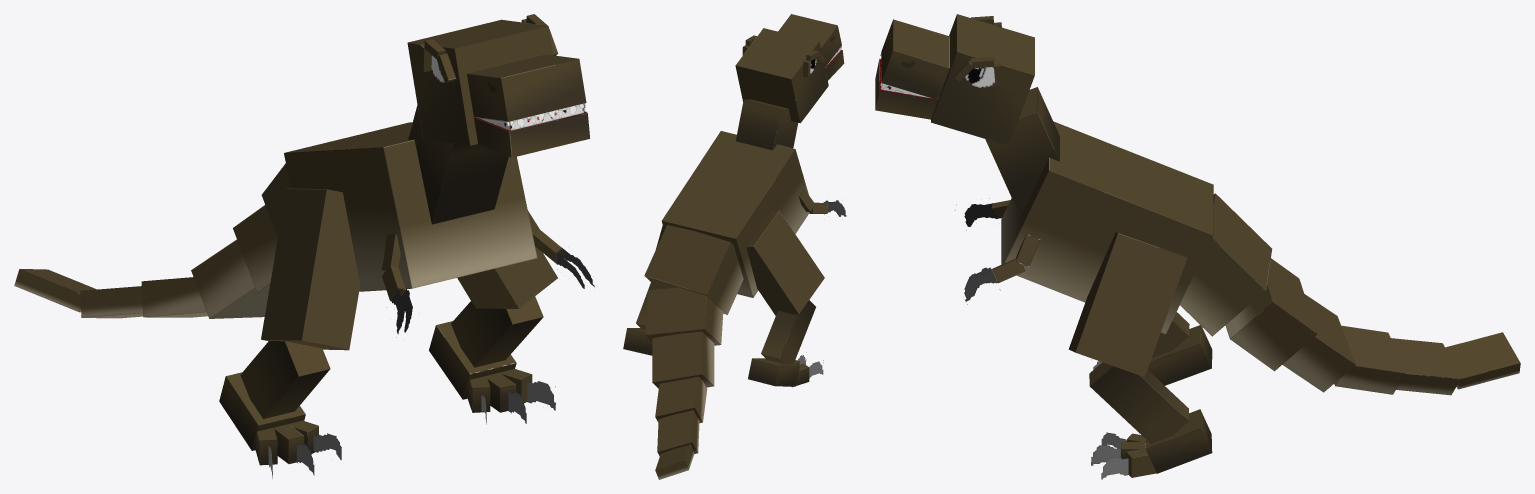
Rendered from animateddinosaur40.obj.
3 views of the same model, side by side, from view 1: azimuth 30°, elevation 25°; view 2: azimuth 150°, elevation 25°; view 3: azimuth 270°, elevation 25° (orthographic). The views are drawn at different scales.
Visible parts, largest first — view 1: Object_6, Object_9, Object_64, Object_56, Object_53, Object_12, Object_34, Object_98, Object_31, Object_79, Object_95, Object_37 (+9 smaller); view 2: Object_6, Object_64, Object_92, Object_9, Object_95, Object_98, Object_53, Object_12, Object_101, Object_104, Object_56, Object_15 (+4 smaller); view 3: Object_6, Object_31, Object_64, Object_92, Object_95, Object_34, Object_53, Object_56, Object_98, Object_101, Object_104, Object_107 (+4 smaller).
Part boxes in pixels (x1,y1,x2,y2): Object_6: (284, 122, 537, 291); Object_9: (261, 188, 360, 350); Object_64: (407, 19, 553, 145); Object_56: (466, 54, 586, 121); Object_53: (408, 105, 508, 224); Object_12: (240, 341, 330, 418); Object_34: (451, 296, 543, 367); Object_98: (191, 239, 268, 318); Object_31: (457, 246, 557, 308); Object_79: (474, 110, 589, 157); Object_95: (233, 205, 277, 292); Object_37: (429, 321, 516, 399); Object_6: (661, 131, 809, 297); Object_64: (735, 28, 828, 123); Object_92: (644, 225, 743, 314); Object_9: (746, 210, 824, 315); Object_95: (645, 287, 723, 345); Object_98: (652, 331, 714, 388); Object_53: (735, 99, 798, 150); Object_12: (761, 300, 815, 364); Object_101: (655, 376, 707, 423); Object_104: (657, 410, 699, 456); Object_56: (778, 14, 841, 67); Object_15: (748, 358, 799, 386); Object_6: (1001, 121, 1213, 334); Object_31: (1068, 232, 1187, 376); Object_64: (931, 14, 1034, 145); Object_92: (1180, 193, 1272, 336); Object_95: (1225, 258, 1317, 371); Object_34: (1089, 362, 1189, 443); Object_53: (985, 87, 1059, 216); Object_56: (881, 19, 949, 99); Object_98: (1282, 294, 1355, 392); Object_101: (1334, 325, 1405, 394); Object_104: (1391, 338, 1460, 395); Object_107: (1445, 332, 1520, 389).
Size of the model in its own units: 2.39 by 3.66 by 5.4.
